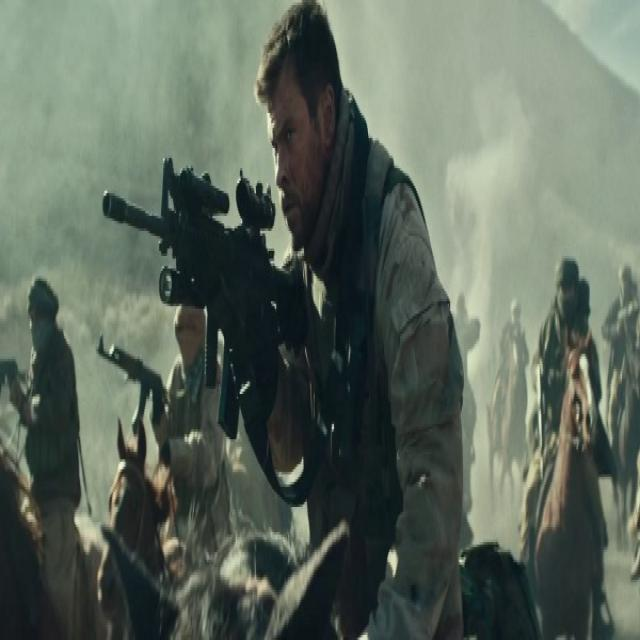rifle: (97, 148, 321, 447), (97, 321, 174, 454)
